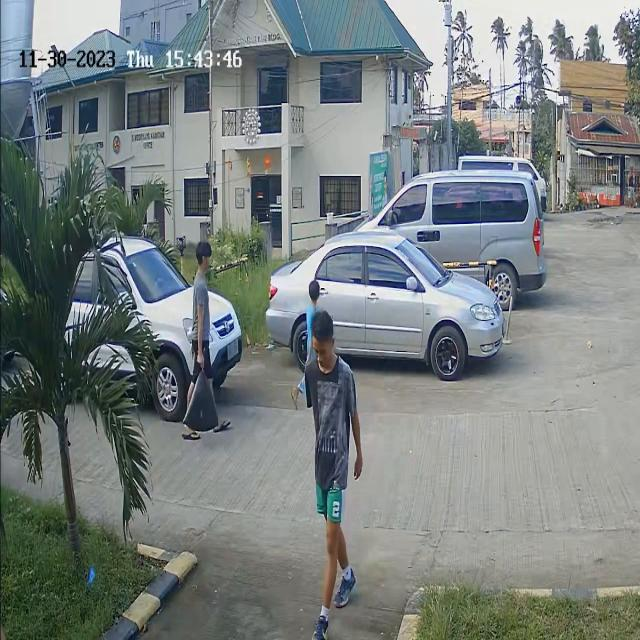garbage: (183, 361, 221, 433)
person: (307, 310, 349, 470), (186, 237, 219, 350)
